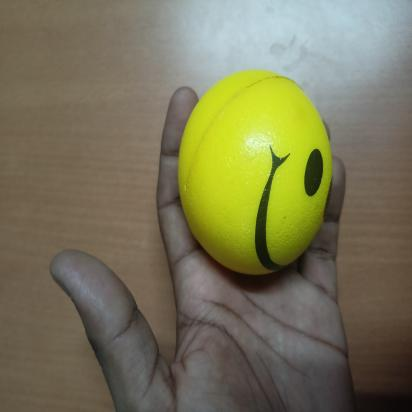Yellowball: (170, 63, 340, 279)
